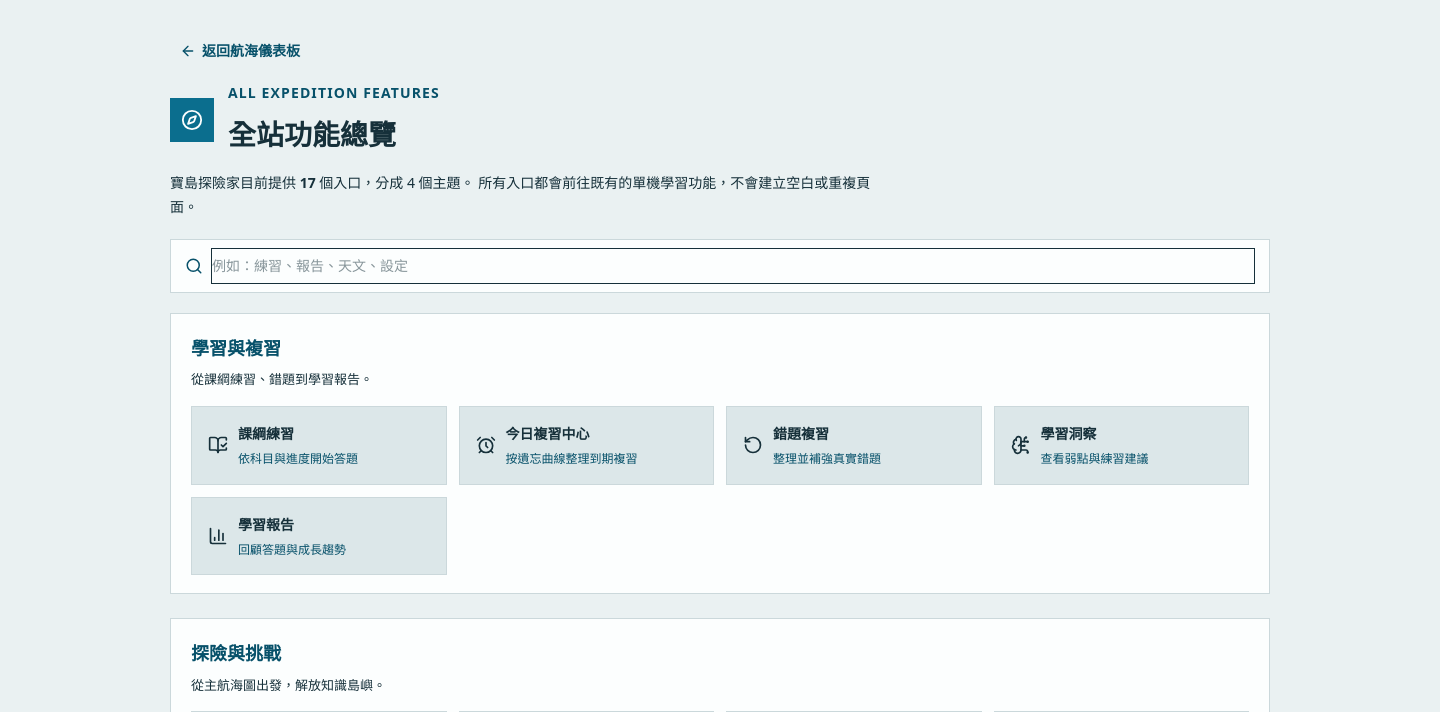
Test: FeaturesDirectory 全站功能總覽 › 搜尋無結果顯示提示語
Type "絕對找不到的關鍵字 xyz" into the search field with placeholder "例如：練習、報告、天文、設定". click: (733, 266)
box: [211,248,1255,284]
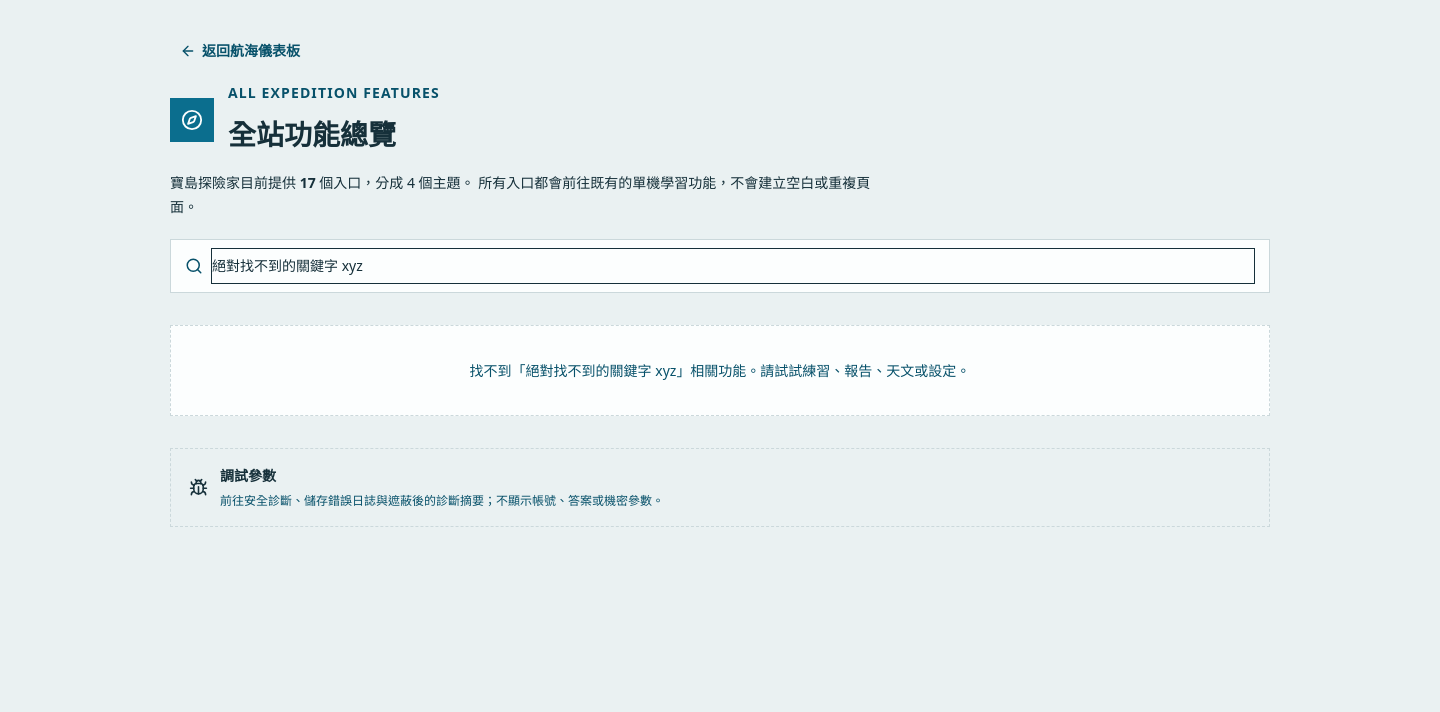
Result: the message shows "找不到「絕對找不到的關鍵字 xyz」相關功能" at [170,325,1270,416]
